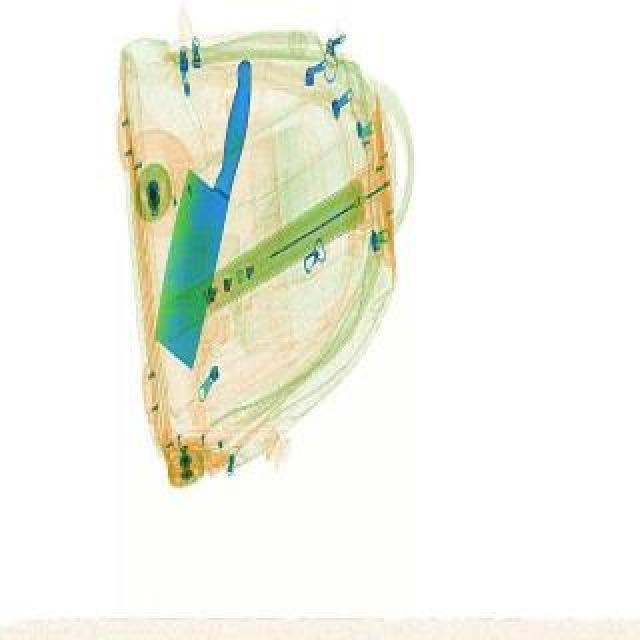knife: (142, 50, 262, 366)
